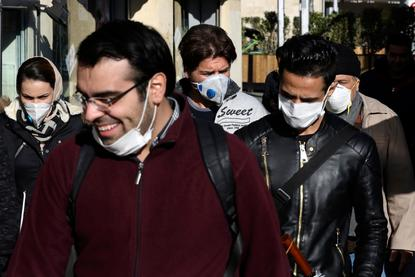mouth: (96, 123, 121, 136)
nose: (83, 114, 103, 123)
